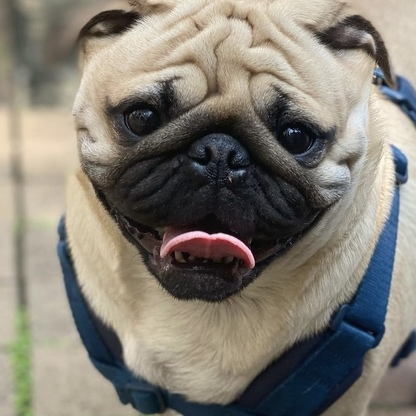Pug: (51, 1, 416, 416)
